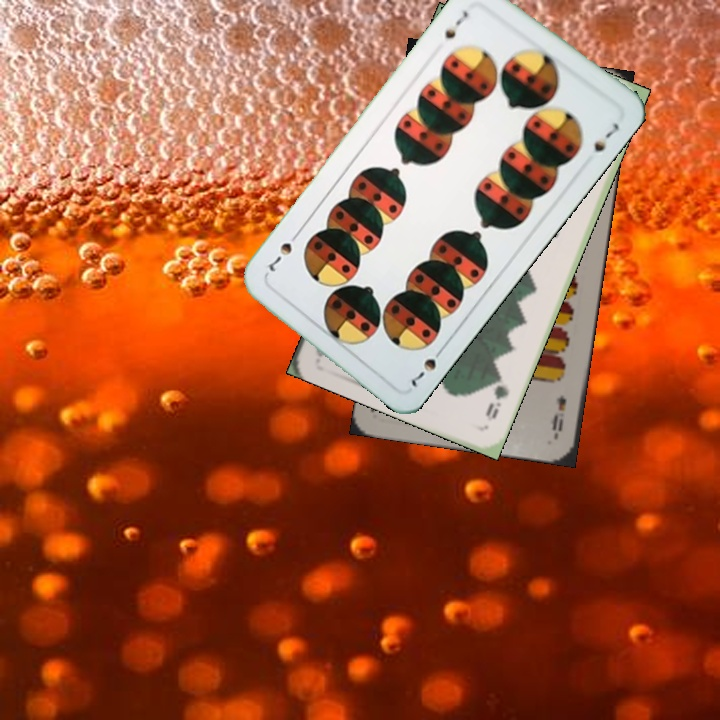E9: (548, 390, 569, 438)
G9: (481, 369, 512, 422)
S7: (407, 342, 448, 391), (440, 6, 471, 42)
